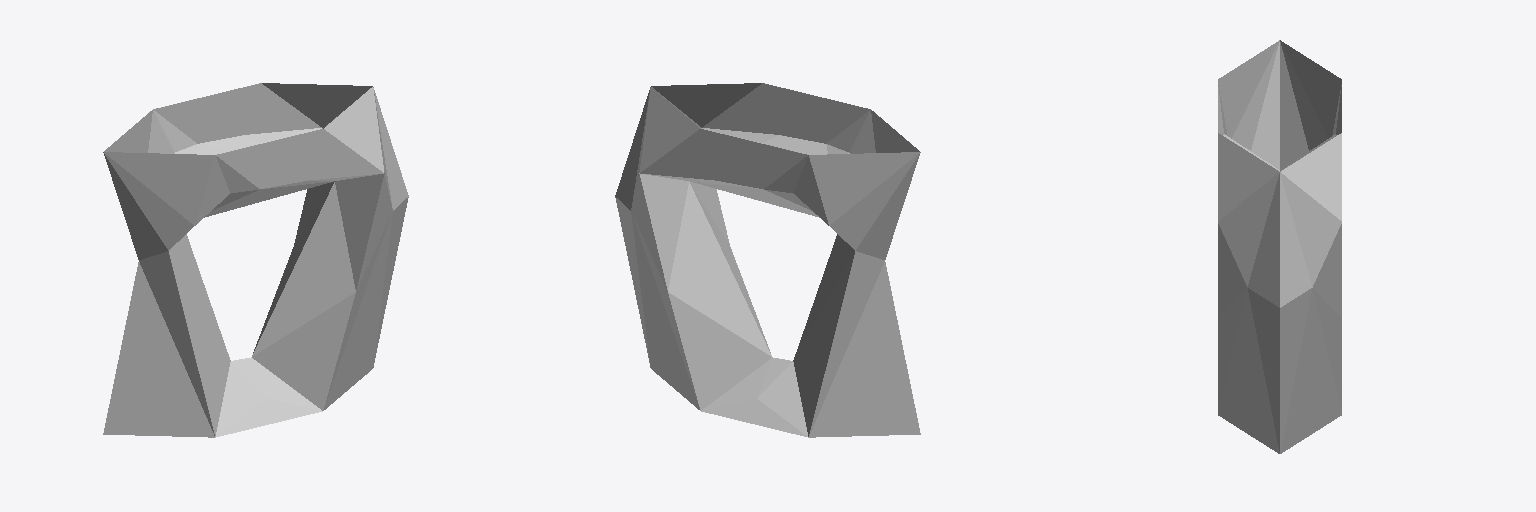
Rendered from silicon_leg_mid.obj.
The picture shows the model from 3 angles: view 1: azimuth 30°, elevation 25°; view 2: azimuth 150°, elevation 25°; view 3: azimuth 270°, elevation 25°; orthographic projection.
Parts seen in each view (by area): view 1: SiliconLegMid; view 2: SiliconLegMid; view 3: SiliconLegMid.
Part boxes in pixels (x1,y1,x2,y2): SiliconLegMid: (103,83,408,437); SiliconLegMid: (615,83,920,437); SiliconLegMid: (1218,40,1341,453).
Size of the model in its own units: 2.26 by 2 by 0.8.